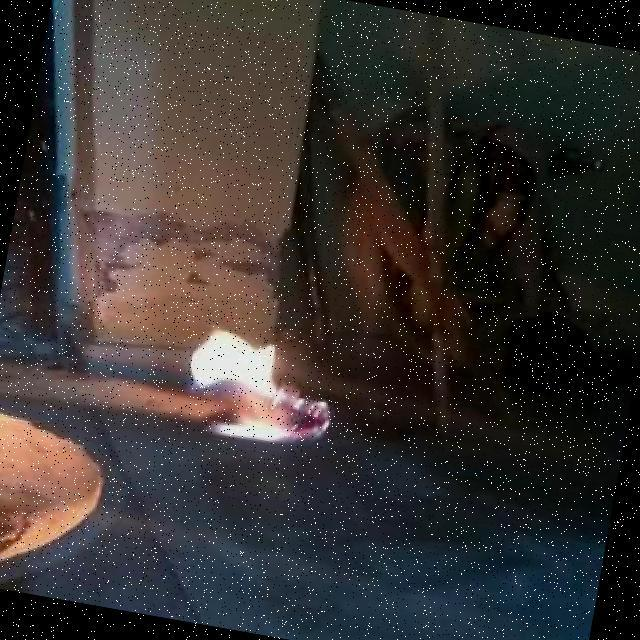Fire: (153, 307, 371, 473)
